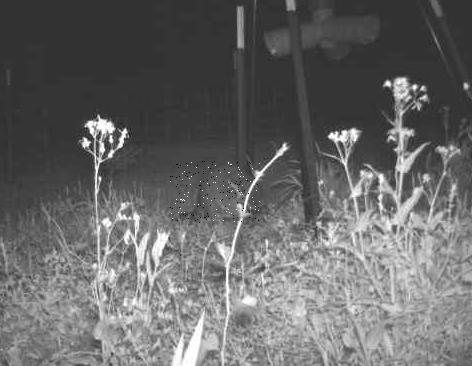Raccoon: (170, 161, 260, 223)
